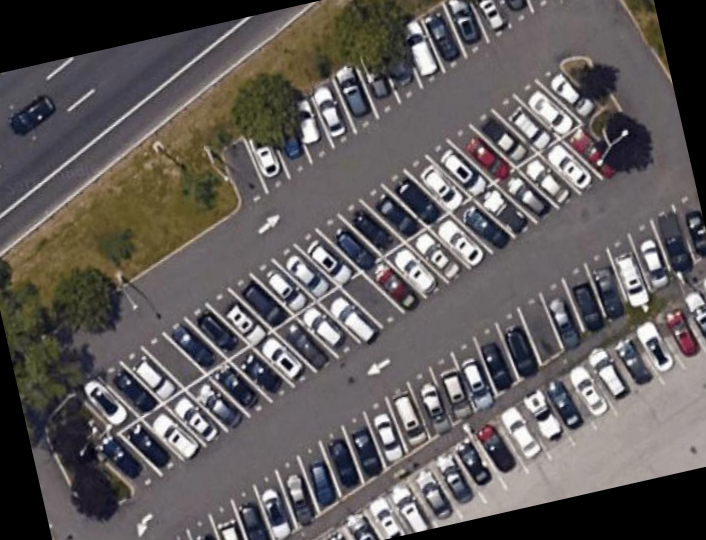parkingspot: (67, 59, 644, 497), (165, 186, 706, 540), (314, 277, 706, 540), (217, 0, 557, 215)
